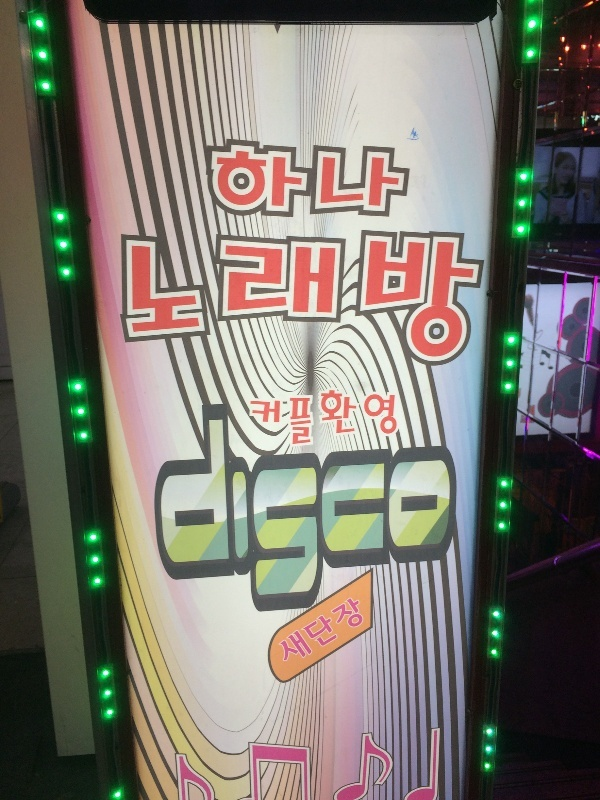text: (161, 400, 176, 644), (177, 400, 192, 644), (193, 400, 208, 644), (209, 400, 224, 644), (225, 400, 240, 644), (241, 400, 256, 644), (257, 400, 272, 644), (273, 400, 288, 644), (289, 400, 304, 644), (305, 400, 320, 644), (321, 400, 336, 644), (337, 400, 352, 644), (353, 400, 368, 644), (369, 400, 384, 644), (385, 400, 400, 644), (401, 400, 416, 644), (417, 400, 432, 644), (433, 400, 448, 644), (449, 400, 464, 644), (129, 233, 144, 367), (145, 233, 160, 367), (161, 233, 176, 367), (177, 233, 192, 367), (193, 233, 208, 367), (209, 233, 224, 367), (225, 233, 240, 367), (241, 233, 256, 367), (257, 233, 272, 367), (273, 233, 288, 367), (289, 233, 304, 367), (305, 233, 320, 367), (321, 233, 336, 367), (337, 233, 352, 367), (353, 233, 368, 367), (369, 233, 384, 367), (385, 233, 400, 367), (401, 233, 416, 367), (417, 233, 432, 367), (433, 233, 448, 367), (449, 233, 464, 367), (465, 233, 480, 367), (153, 400, 160, 644), (481, 233, 490, 367), (209, 139, 224, 219), (225, 139, 240, 219), (241, 139, 256, 219), (257, 139, 272, 219), (273, 139, 288, 219), (289, 139, 304, 219), (305, 139, 320, 219), (321, 139, 336, 219), (337, 139, 352, 219), (353, 139, 368, 219), (369, 139, 384, 219), (385, 139, 400, 219), (289, 595, 304, 673), (305, 595, 320, 673), (321, 595, 336, 673), (337, 595, 352, 673), (257, 382, 272, 450), (273, 382, 288, 450), (289, 382, 304, 450), (305, 382, 320, 450), (321, 382, 336, 450), (337, 382, 352, 450), (353, 382, 368, 450), (369, 382, 384, 450), (401, 139, 413, 219), (121, 233, 128, 367), (385, 382, 398, 450), (353, 595, 364, 673), (279, 595, 288, 673), (465, 400, 467, 644), (250, 382, 256, 450)
